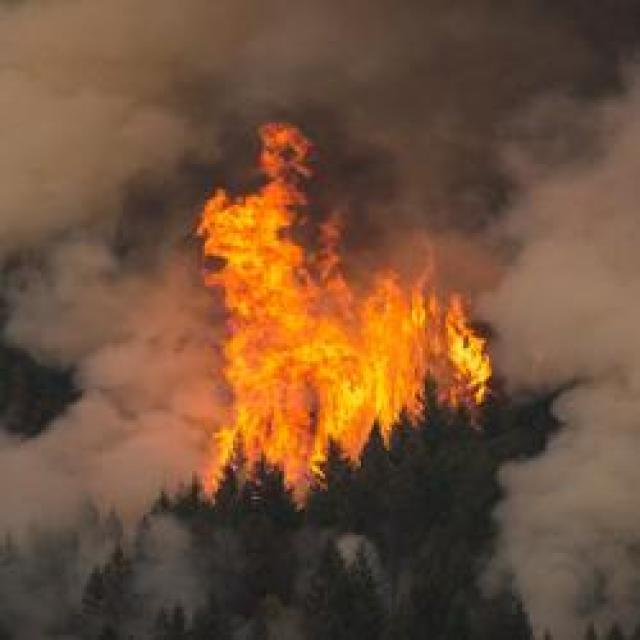Fire: (213, 196, 334, 445), (344, 297, 477, 418)
